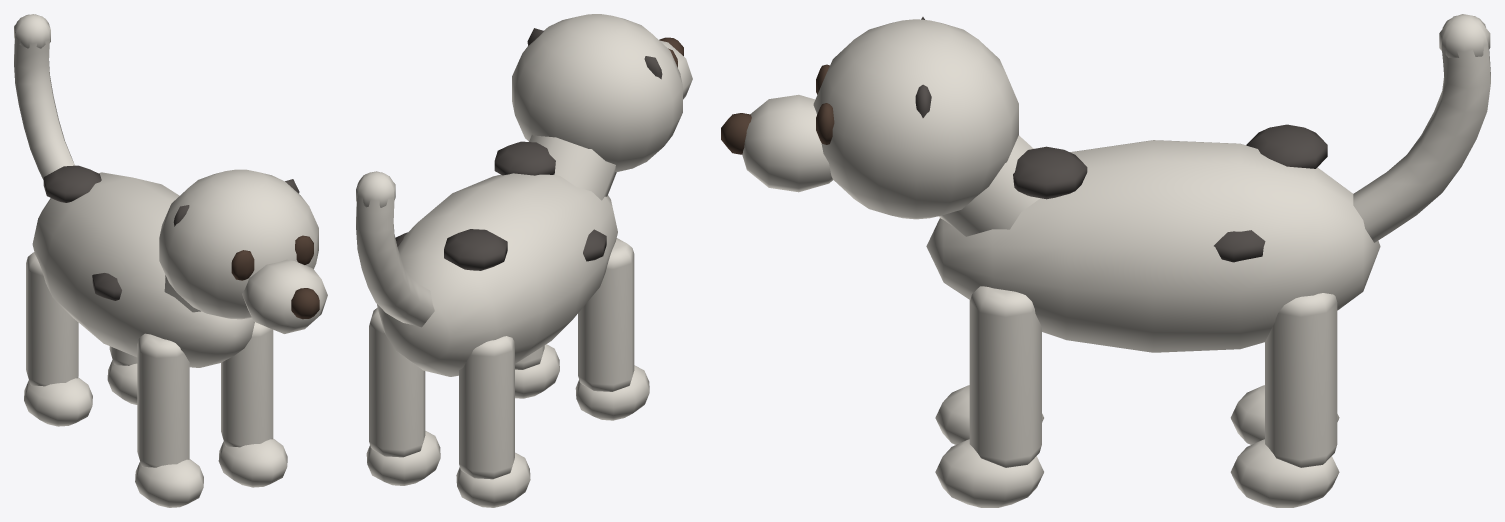
File: pet_dog_spotted.glb
3 renders of one model, left to right at view 1: azimuth 30°, elevation 25°; view 2: azimuth 150°, elevation 25°; view 3: azimuth 270°, elevation 25°, orthographic. The views are drawn at different scales.
Parts seen in each view (by area): view 1: pet_dog_spotted_mesh, pet_dog_spotted_Head_mesh, pet_dog_spotted_LegFL_mesh, pet_dog_spotted_LegFR_mesh, pet_dog_spotted_LegBL_mesh, pet_dog_spotted_Tail_mesh, pet_dog_spotted_LegBR_mesh; view 2: pet_dog_spotted_mesh, pet_dog_spotted_Head_mesh, pet_dog_spotted_LegBL_mesh, pet_dog_spotted_LegFL_mesh, pet_dog_spotted_LegBR_mesh, pet_dog_spotted_Tail_mesh, pet_dog_spotted_LegFR_mesh; view 3: pet_dog_spotted_mesh, pet_dog_spotted_Head_mesh, pet_dog_spotted_LegFR_mesh, pet_dog_spotted_LegBR_mesh, pet_dog_spotted_Tail_mesh, pet_dog_spotted_LegFL_mesh, pet_dog_spotted_LegBL_mesh.
Boxes of the visible parts, box(x1,y1,x2,y2) form: pet_dog_spotted_mesh: box(32, 165, 254, 367); pet_dog_spotted_Head_mesh: box(159, 169, 327, 333); pet_dog_spotted_LegFL_mesh: box(135, 333, 203, 507); pet_dog_spotted_LegFR_mesh: box(218, 322, 287, 487); pet_dog_spotted_LegBL_mesh: box(24, 252, 92, 426); pet_dog_spotted_Tail_mesh: box(14, 14, 74, 179); pet_dog_spotted_LegBR_mesh: box(107, 346, 137, 404); pet_dog_spotted_mesh: box(377, 141, 617, 376); pet_dog_spotted_Head_mesh: box(512, 14, 692, 200); pet_dog_spotted_LegBL_mesh: box(456, 336, 530, 507); pet_dog_spotted_LegFL_mesh: box(575, 238, 649, 420); pet_dog_spotted_LegBR_mesh: box(366, 307, 440, 485); pet_dog_spotted_Tail_mesh: box(356, 171, 434, 327); pet_dog_spotted_LegFR_mesh: box(515, 344, 559, 398); pet_dog_spotted_mesh: box(926, 124, 1380, 352); pet_dog_spotted_Head_mesh: box(721, 17, 1039, 236); pet_dog_spotted_LegFR_mesh: box(935, 286, 1043, 507); pet_dog_spotted_LegBR_mesh: box(1230, 293, 1339, 507); pet_dog_spotted_Tail_mesh: box(1353, 14, 1490, 242); pet_dog_spotted_LegFL_mesh: box(935, 300, 1043, 444); pet_dog_spotted_LegBL_mesh: box(1230, 385, 1339, 444).
Bounding box in the file's own units: 0.1704 × 0.3795 × 0.5762.
